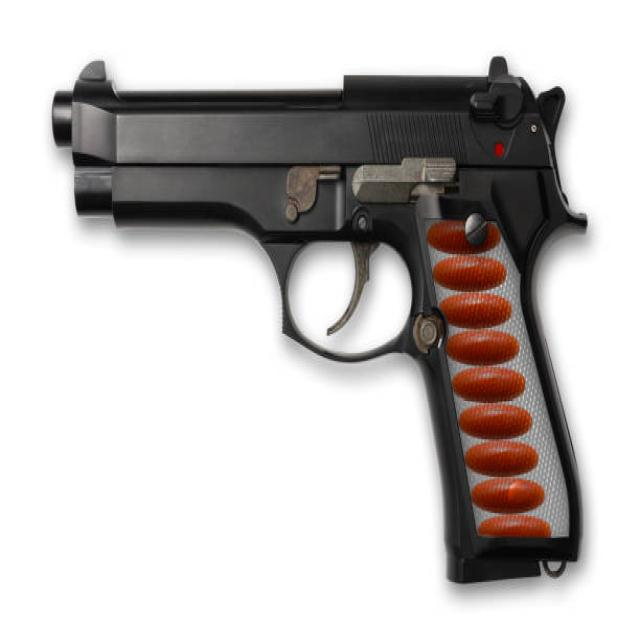pistol: (46, 46, 593, 590)
